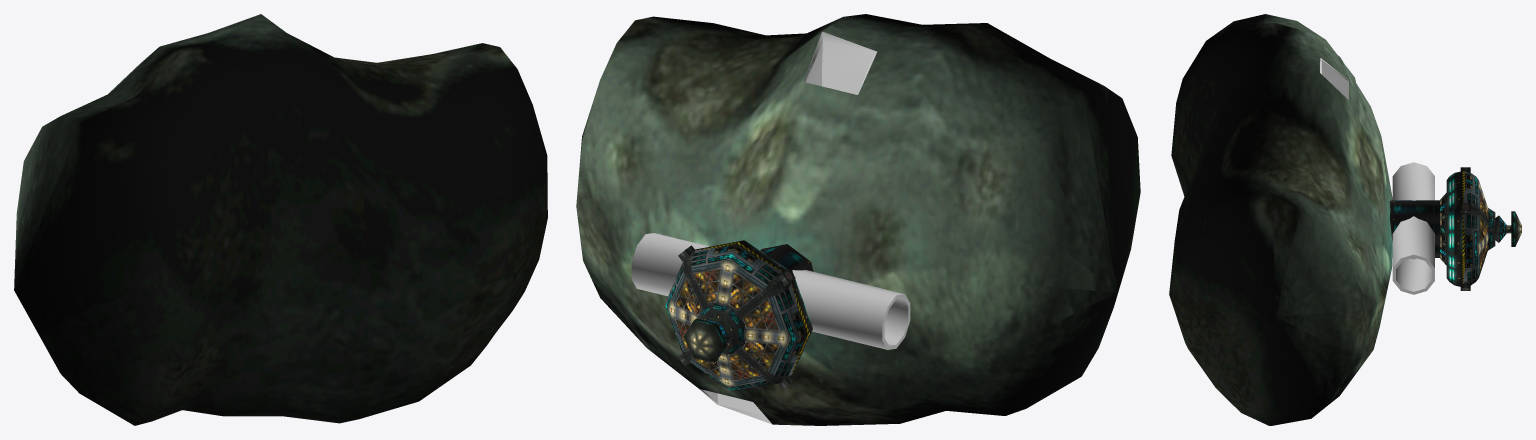
3 views of the same model, side by side, from view 1: azimuth 30°, elevation 25°; view 2: azimuth 150°, elevation 25°; view 3: azimuth 270°, elevation 25° (orthographic). The views are drawn at different scales.
Parts seen in each view (by area): view 1: frm-craterer; view 2: frm-craterer, frm-fuselg, frm-LAUNCH_TUBE, frm-LAUNCH_TUBE_1, frm-tfuselg2, frm-tfuselg1, frm-cyl1; view 3: frm-craterer, frm-fuselg, frm-LAUNCH_TUBE_1, frm-LAUNCH_TUBE, frm-cyl1, frm-tfuselg2, frm-bfuselg1.
Part boxes in pixels (<box>): frm-craterer: <box>14,14,547,425</box>; frm-craterer: <box>576,14,1140,425</box>; frm-fuselg: <box>665,240,812,391</box>; frm-LAUNCH_TUBE: <box>792,270,910,349</box>; frm-LAUNCH_TUBE_1: <box>631,233,709,296</box>; frm-tfuselg2: <box>683,317,730,362</box>; frm-tfuselg1: <box>699,302,745,354</box>; frm-cyl1: <box>760,244,813,272</box>; frm-craterer: <box>1169,14,1392,425</box>; frm-fuselg: <box>1446,171,1488,286</box>; frm-LAUNCH_TUBE_1: <box>1392,216,1434,294</box>; frm-LAUNCH_TUBE: <box>1392,162,1434,200</box>; frm-cyl1: <box>1389,200,1439,257</box>; frm-tfuselg2: <box>1495,211,1521,246</box>; frm-bfuselg1: <box>1440,193,1446,265</box>.
Size of the model in its own units: 87.03 by 65.62 by 64.52.
